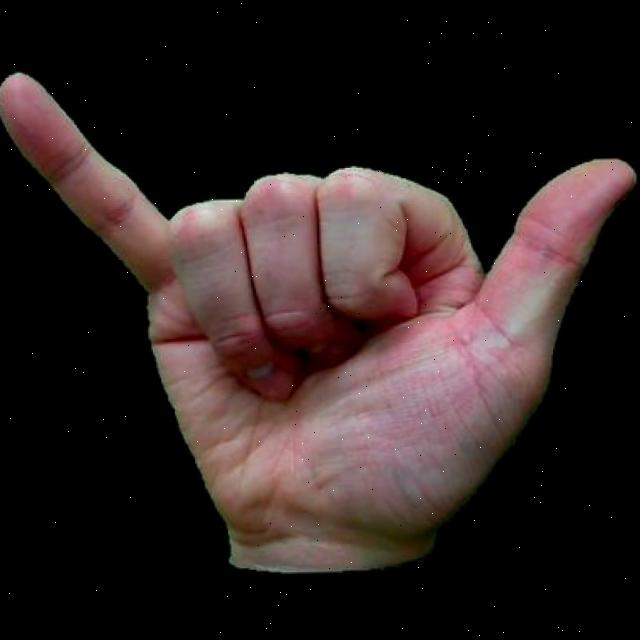y: (0, 42, 640, 592)
